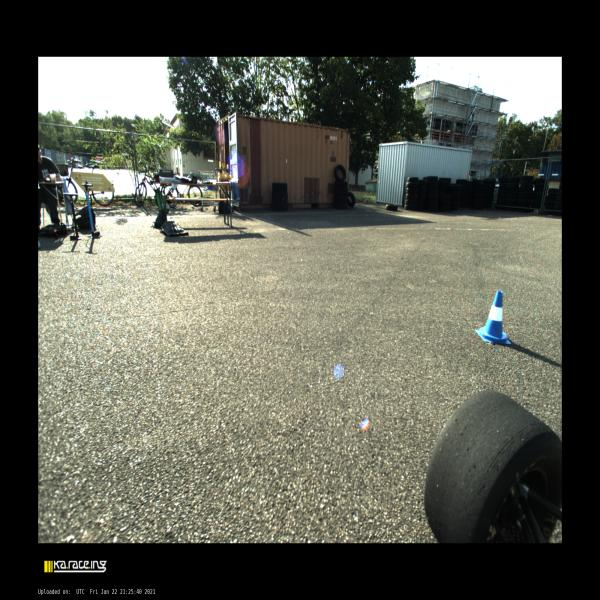blue_cone: (475, 290, 511, 344)
yellow_cone: (225, 164, 231, 178), (218, 166, 223, 178)
